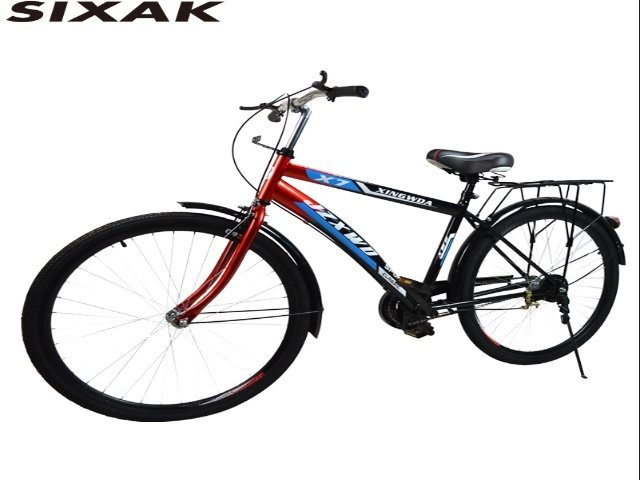bike: (14, 67, 629, 424)
